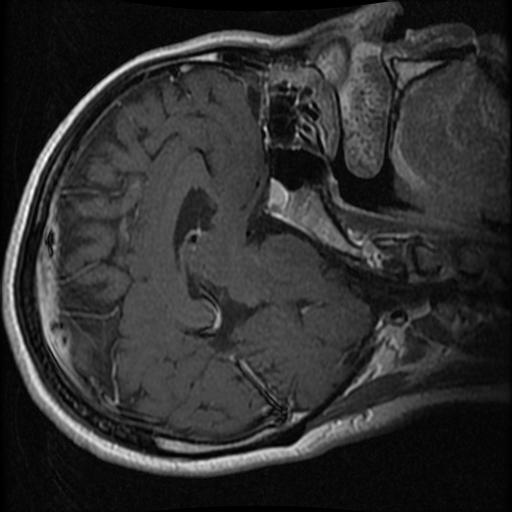pituitary tumour: (268, 176, 288, 216)
